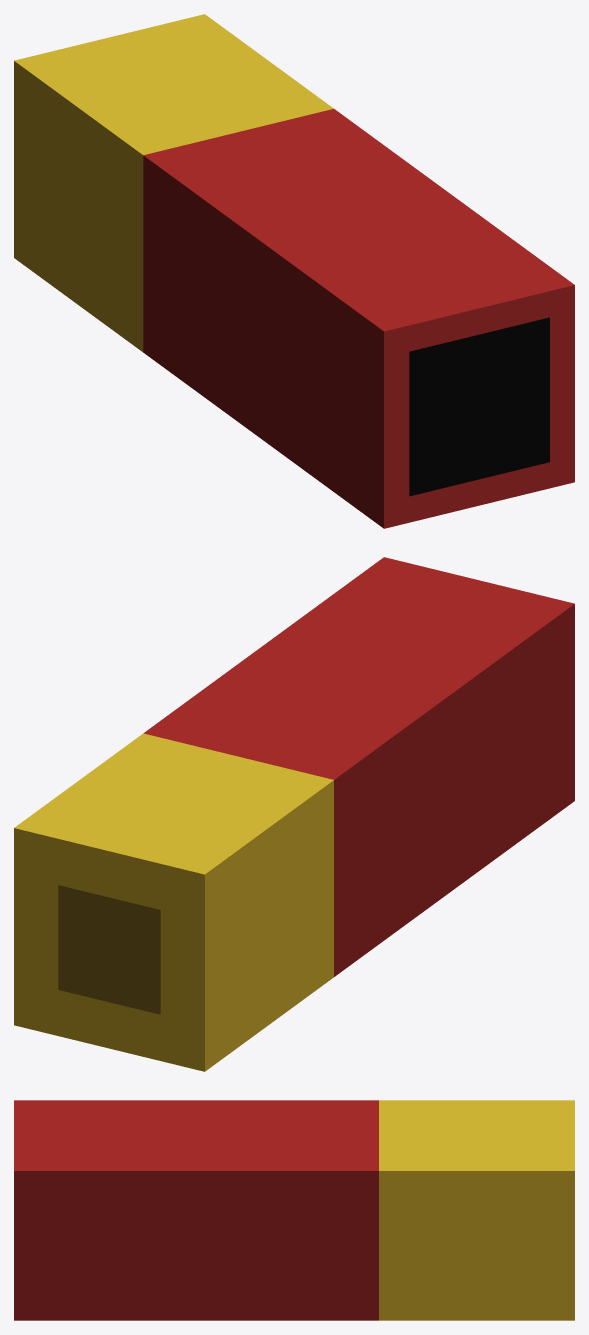
File: Ammo_Shotgun.fbx
3 views of the same model, one above another, from view 1: azimuth 30°, elevation 25°; view 2: azimuth 150°, elevation 25°; view 3: azimuth 270°, elevation 25° (orthographic). The views are drawn at different scales.
Parts seen in each view (by area): view 1: Ammo_Shotgun; view 2: Ammo_Shotgun; view 3: Ammo_Shotgun.
Part boxes in pixels (box(x1,y1,x2,y2)): Ammo_Shotgun: box(14, 14, 574, 528); Ammo_Shotgun: box(14, 557, 574, 1071); Ammo_Shotgun: box(14, 1100, 574, 1320).
Bounding box in the file's own units: 8.61 × 8.5 × 28.92.
